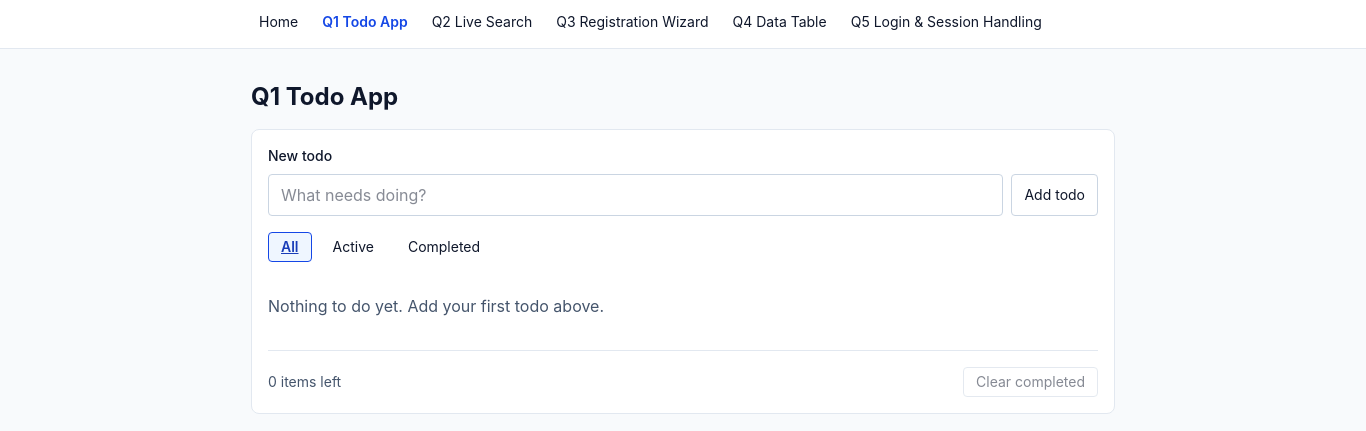
Test: todo page: filters, count and clearing › says so when no todo matches the chosen filter
Type "Buy milk" into the field labelled "New todo".
click(636, 195); type("Buy milk")  # box [268,174,1004,216]
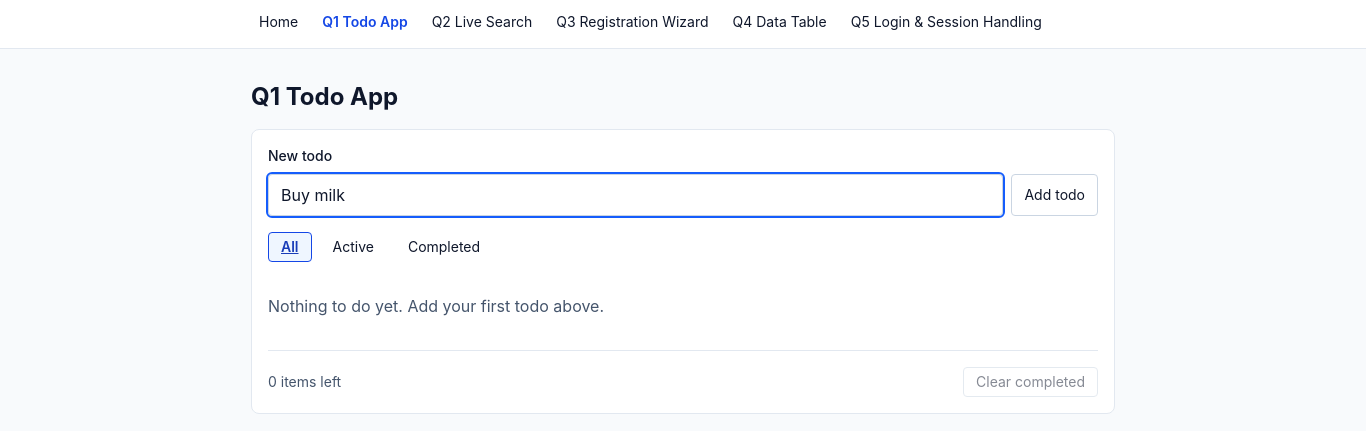
Click the button "Add todo".
click(1055, 195)  # box [1012,174,1098,216]
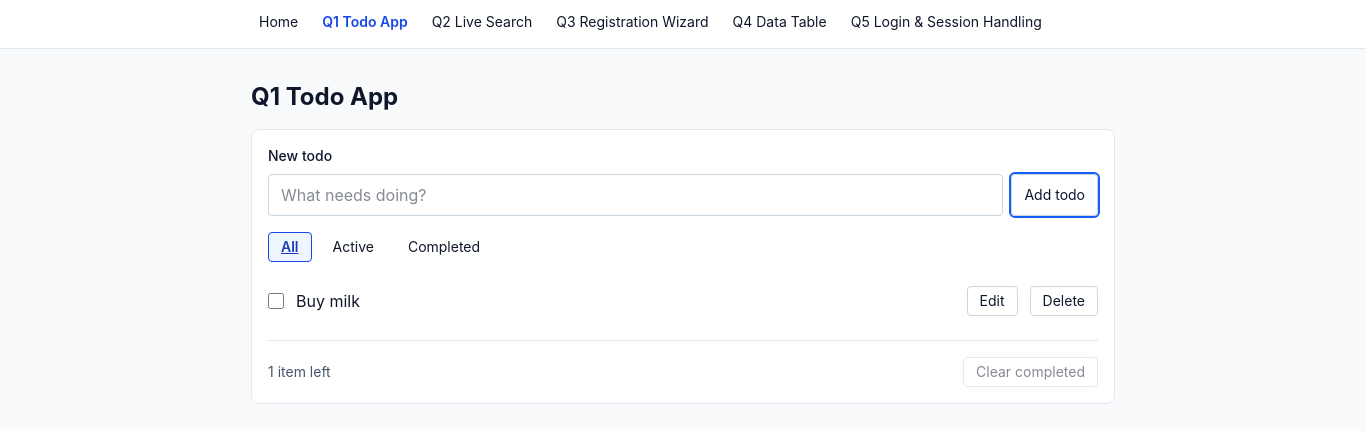
Click the button "Completed".
click(444, 247)  # box [395,232,493,262]
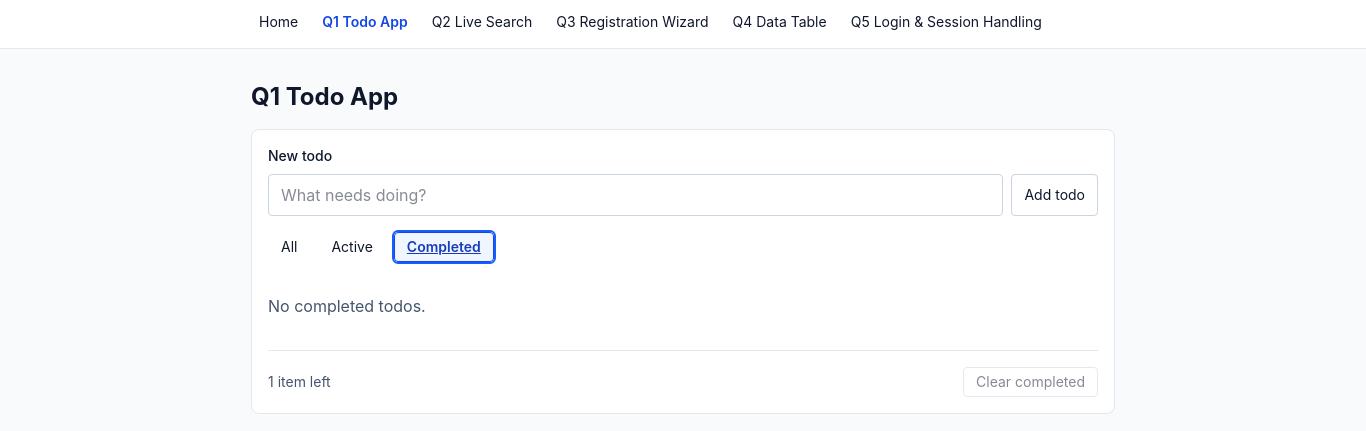
Expected: the text "No completed todos." is shown, [268,296,426,316]
